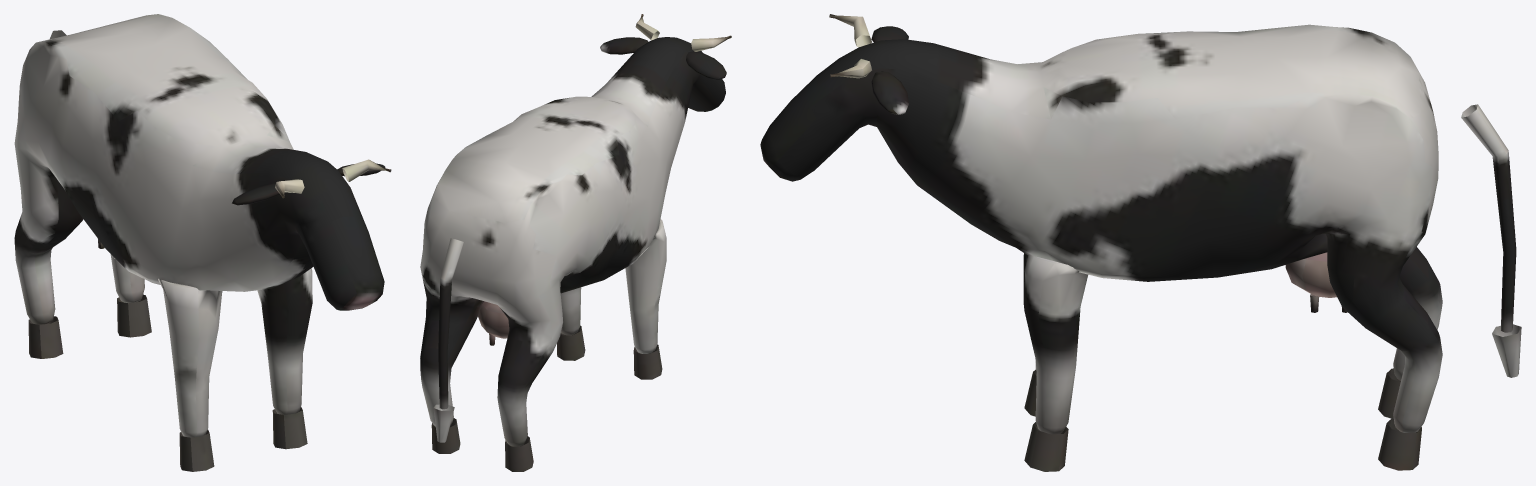
Rendered from cow.glb.
3 views of the same model, side by side, from view 1: azimuth 30°, elevation 25°; view 2: azimuth 150°, elevation 25°; view 3: azimuth 270°, elevation 25° (orthographic). The views are drawn at different scales.
Visible parts, largest first — view 1: cow-body; view 2: cow-body; view 3: cow-body.
Part boxes in pixels (x1=…): cow-body: x1=14, y1=14, x2=391, y2=471; cow-body: x1=420, y1=14, x2=731, y2=471; cow-body: x1=760, y1=14, x2=1521, y2=471.
Bounding box in the file's own units: 0.7302 × 1.42 × 2.45.
Materials: 1 (1 with a texture image).
